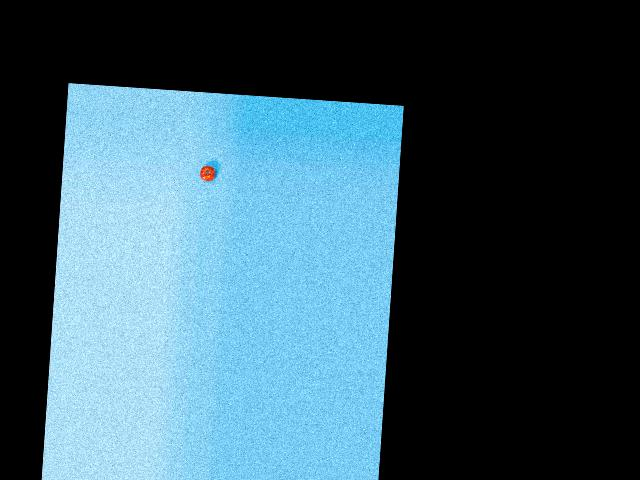tomato: (199, 164, 216, 181)
